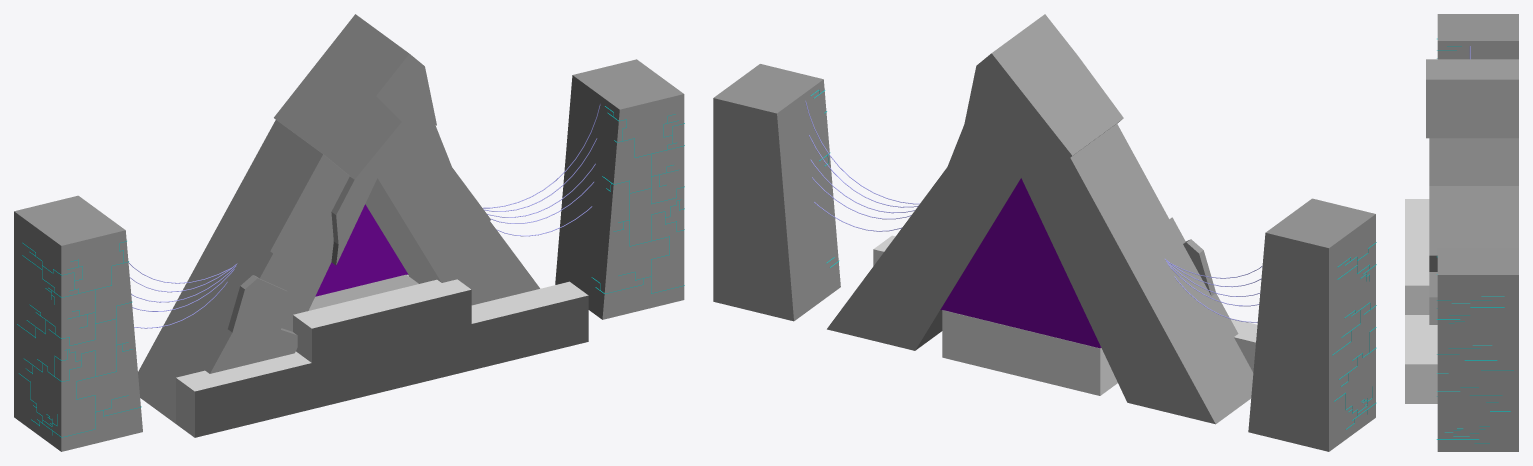
File: synth_monolith.glb.glb
3 renders of one model, left to right at view 1: azimuth 30°, elevation 25°; view 2: azimuth 150°, elevation 25°; view 3: azimuth 270°, elevation 25°, orthographic. The views are drawn at different scales.
Visible parts, largest first — view 1: Geom3D_ (×3), Geom3D (×6); view 2: Geom3D_ (×4), Geom3D (×2); view 3: Geom3D_ (×3), Geom3D (×2).
Part boxes in pixels (x1=…): Geom3D_ (×3): x1=14, y1=14, x2=684, y2=451; Geom3D (×6): x1=17, y1=106, x2=684, y2=437; Geom3D_ (×4): x1=713, y1=14, x2=1375, y2=451; Geom3D (×2): x1=873, y1=178, x2=1257, y2=372; Geom3D_ (×3): x1=1426, y1=14, x2=1518, y2=451; Geom3D (×2): x1=1405, y1=199, x2=1513, y2=443.
Bounding box in the file's own units: 19 × 9.32 × 3.5.
